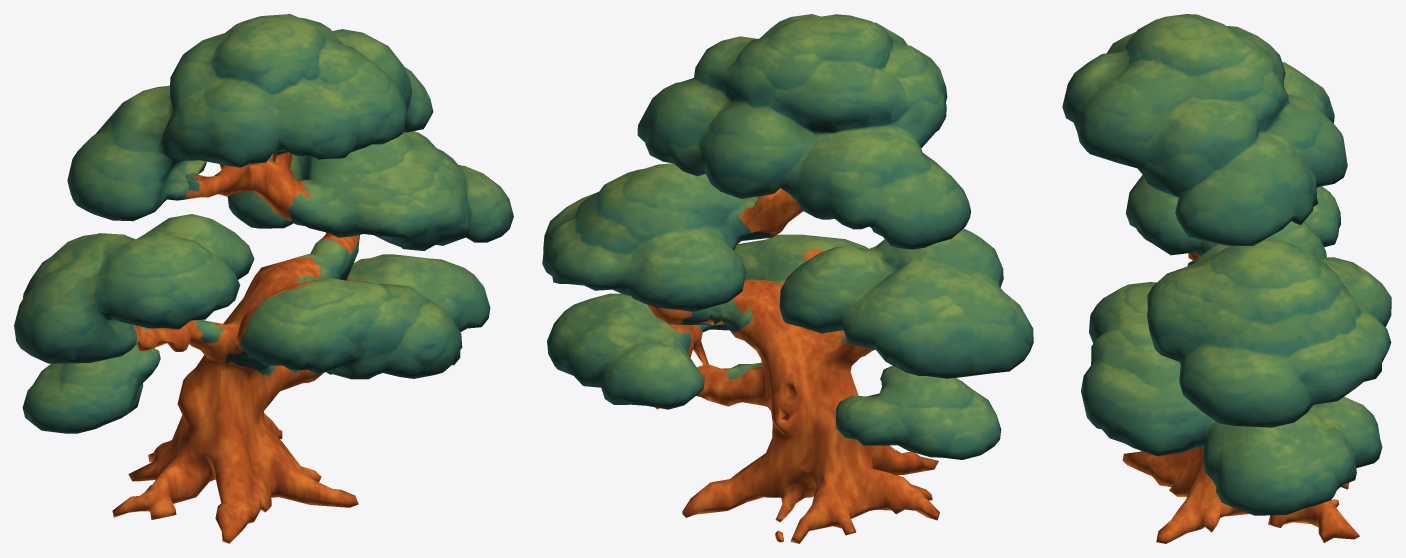
The model's file is Pine_ReferenceTextured.fbx.
3 views of the same model, side by side, from view 1: azimuth 30°, elevation 25°; view 2: azimuth 150°, elevation 25°; view 3: azimuth 270°, elevation 25° (orthographic). The views are drawn at different scales.
Visible parts, largest first — view 1: Pine_Textured_7600Tris; view 2: Pine_Textured_7600Tris; view 3: Pine_Textured_7600Tris.
Boxes of the visible parts, x1,y1,x2,y2 form: Pine_Textured_7600Tris: (14,14,513,543); Pine_Textured_7600Tris: (542,14,1033,543); Pine_Textured_7600Tris: (1062,14,1391,543).
Size of the model in its own units: 0.9981 by 0.9596 by 0.5856.
